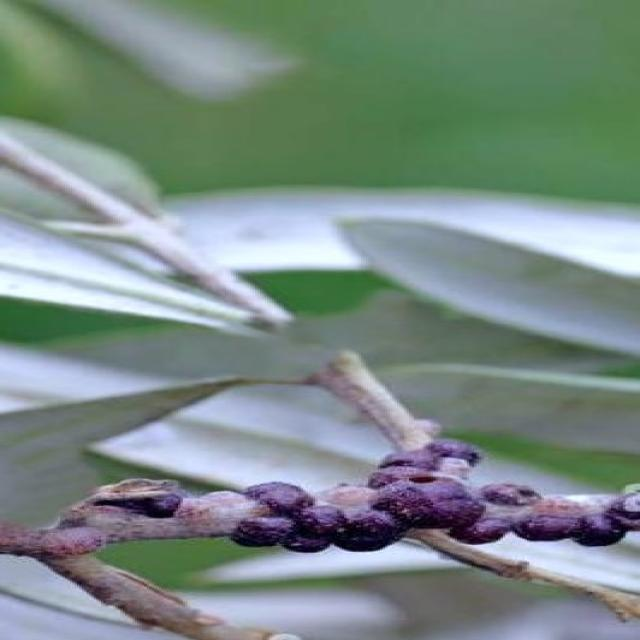Black Scale: (231, 439, 638, 577), (91, 478, 185, 517)
